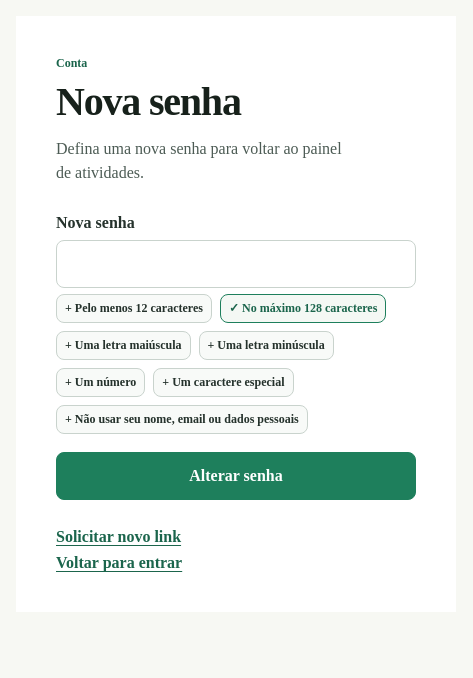
Test: PasswordRecoveryCompleteComponent › should_show_password_policy_failure_details
Step 1. Type "weak" into the password field named "newPassword" → (236, 264), box 56,240 -> 416,288
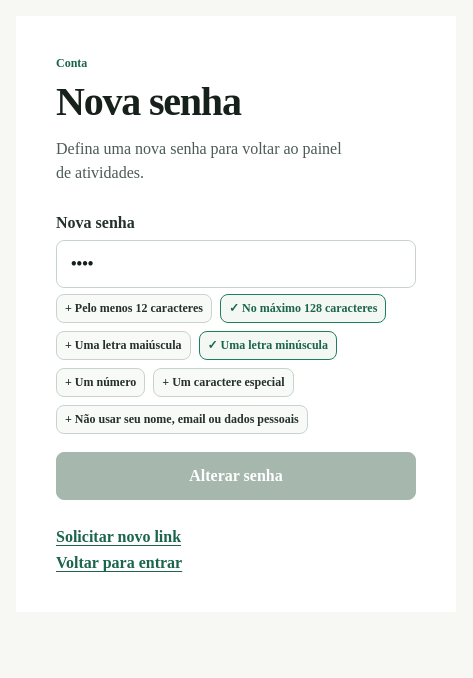
Step 2. Submit the form, box 56,214 -> 416,500
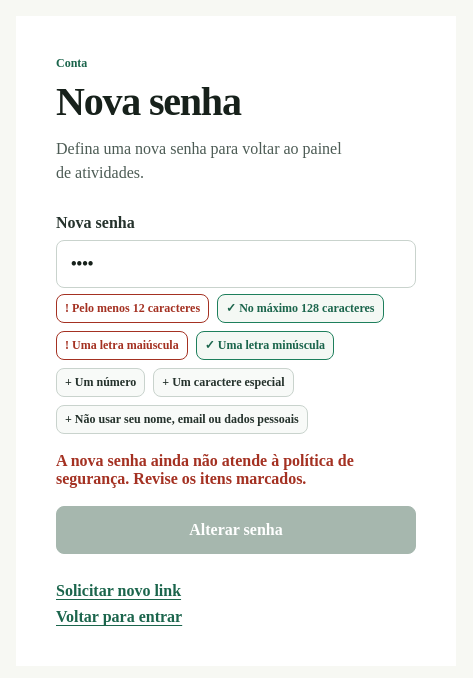
Check: the text "A nova senha ainda não atende à política de segurança" is shown, box 56,452 -> 354,487
